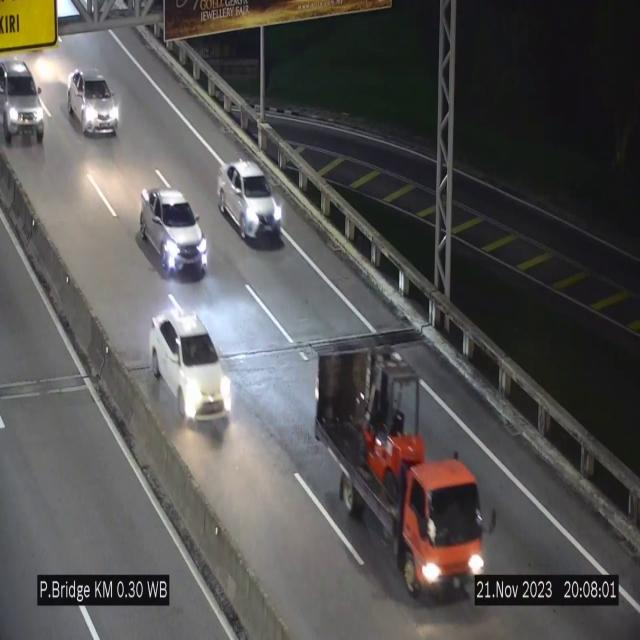Car: (150, 316, 230, 431), (139, 188, 208, 276), (217, 160, 283, 242), (0, 59, 48, 152), (68, 69, 120, 135)
Truck: (316, 346, 487, 600)
